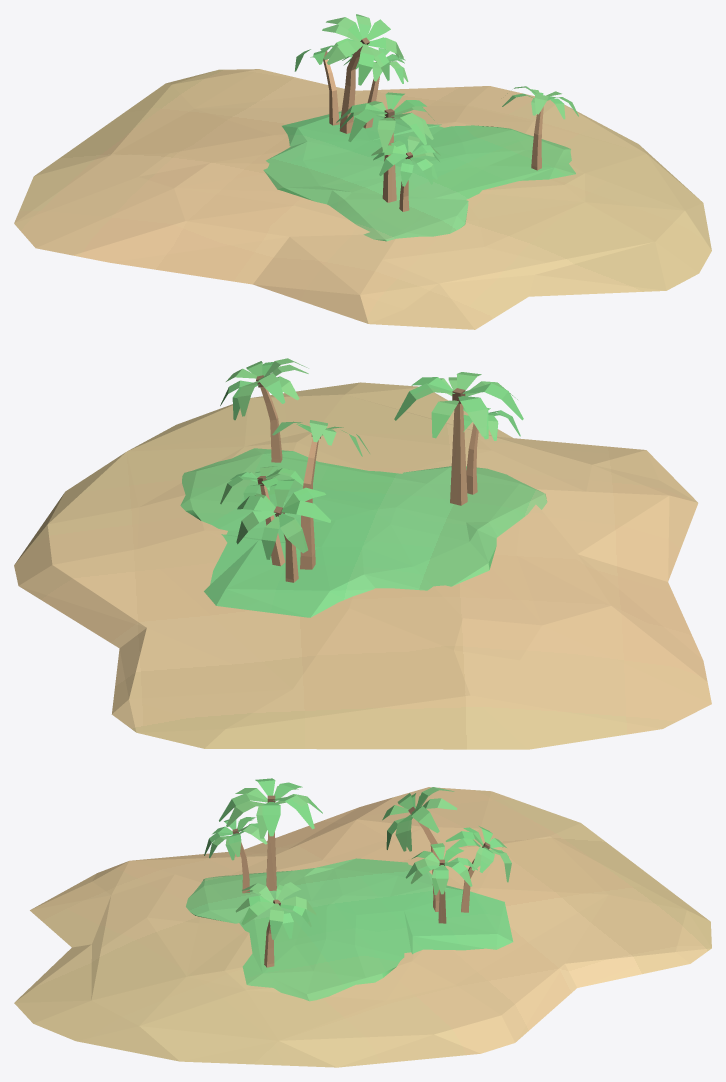
Rendered from island_modified.glb.
3 renders of one model, top to bottom at view 1: azimuth 30°, elevation 25°; view 2: azimuth 150°, elevation 25°; view 3: azimuth 270°, elevation 25°, orthographic. The views are drawn at different scales.
Visible parts, largest first — view 1: Cube.003_Cube.002; view 2: Cube.003_Cube.002; view 3: Cube.003_Cube.002.
Boxes of the visible parts, x1=… form: Cube.003_Cube.002: x1=14, y1=14, x2=711, y2=329; Cube.003_Cube.002: x1=14, y1=358, x2=711, y2=749; Cube.003_Cube.002: x1=14, y1=778, x2=711, y2=1067.
Size of the model in its own units: 47.54 by 12.34 by 49.93.
1 material, 1 textured.
